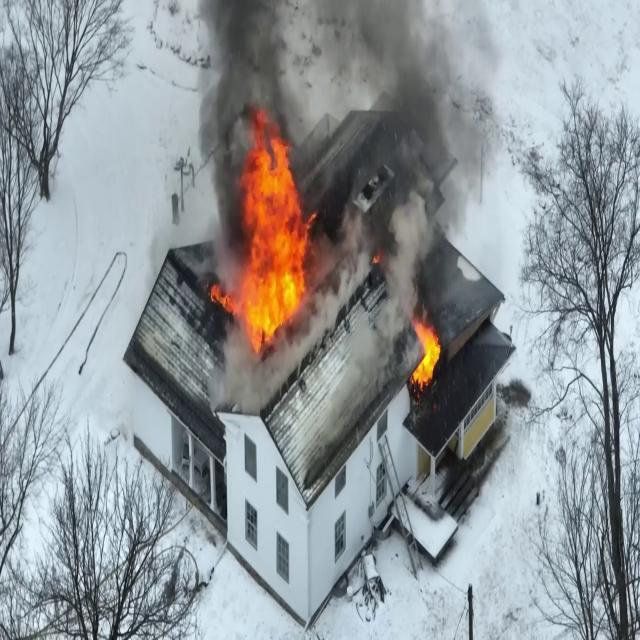Fire: (225, 112, 319, 356), (408, 311, 446, 397)
Smoke: (331, 0, 524, 314), (175, 1, 318, 156)
